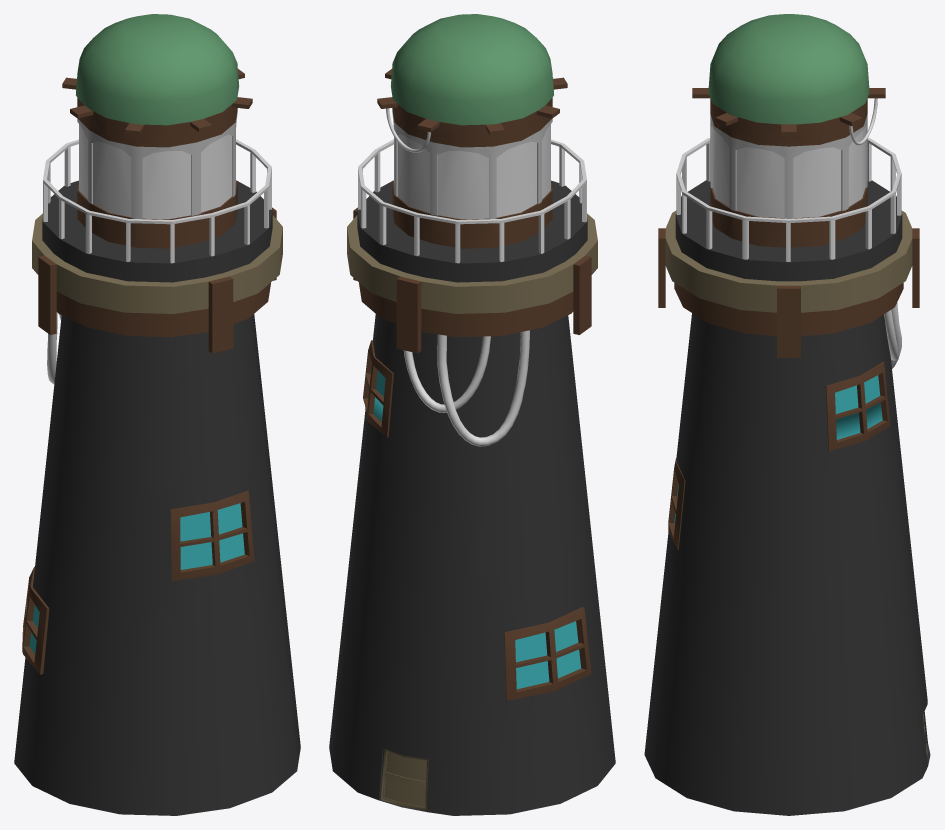
The model's file is Lighthouse_WIP.fbx.
3 renders of one model, left to right at view 1: azimuth 30°, elevation 25°; view 2: azimuth 150°, elevation 25°; view 3: azimuth 270°, elevation 25°, orthographic.
Visible parts, largest first — view 1: LH_Base, LH_VeryTop, LH_Top, LH_VeryTop_Windows, LH_Base.003, LH_Handrail, LH_Base.002; view 2: LH_Base, LH_VeryTop, LH_Top, LH_VeryTop_Windows, LH_Base.002, LH_Handrail, LH_Rope, LH_Base.001; view 3: LH_Base, LH_VeryTop, LH_Top, LH_VeryTop_Windows, LH_Handrail, LH_Base.001, LH_Rope, LH_Base.003.
Boxes of the visible parts, box(x1,y1,x2,y2) form: LH_Base: box(14, 314, 300, 815); LH_VeryTop: box(62, 14, 252, 248); LH_Top: box(32, 180, 282, 353); LH_VeryTop_Windows: box(79, 124, 235, 219); LH_Base.003: box(170, 490, 254, 580); LH_Handrail: box(43, 139, 271, 263); LH_Base.002: box(22, 566, 49, 674); LH_Base: box(329, 314, 615, 815); LH_VeryTop: box(377, 14, 567, 248); LH_Top: box(347, 180, 597, 353); LH_VeryTop_Windows: box(394, 124, 550, 219); LH_Base.002: box(504, 607, 591, 700); LH_Handrail: box(358, 139, 586, 263); LH_Rope: box(386, 108, 529, 446); LH_Base.001: box(363, 340, 393, 437); LH_Base: box(644, 313, 930, 815); LH_VeryTop: box(692, 14, 885, 247); LH_Top: box(658, 180, 919, 357); LH_VeryTop_Windows: box(712, 127, 865, 218); LH_Handrail: box(676, 138, 901, 261); LH_Base.001: box(825, 362, 890, 451); LH_Rope: box(849, 98, 901, 368); LH_Base.003: box(668, 458, 685, 549).
Size of the model in its own units: 1493 by 4147 by 1477.
